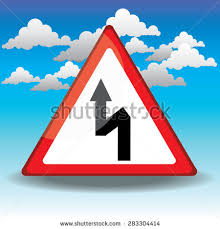Double_bend_left: (18, 18, 199, 179)
